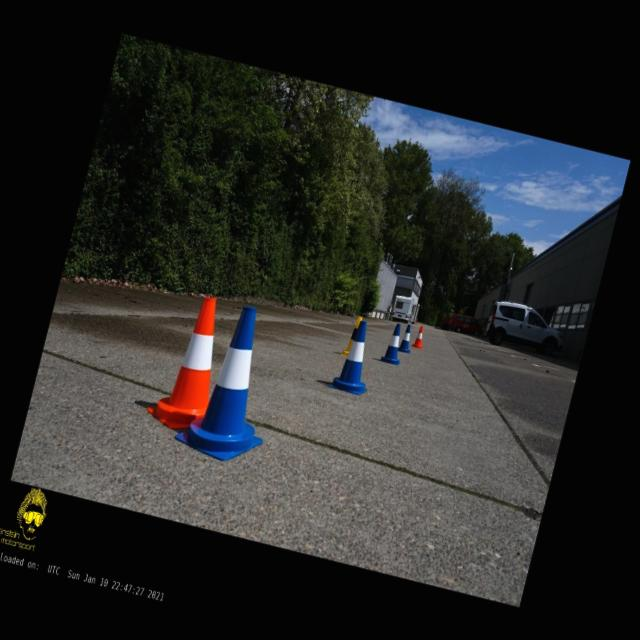blue_cone: (172, 296, 294, 468), (327, 316, 382, 396), (379, 321, 408, 366), (398, 324, 416, 354)
orange_cone: (142, 288, 234, 436), (410, 324, 428, 348)
yellow_cone: (340, 314, 362, 357)
